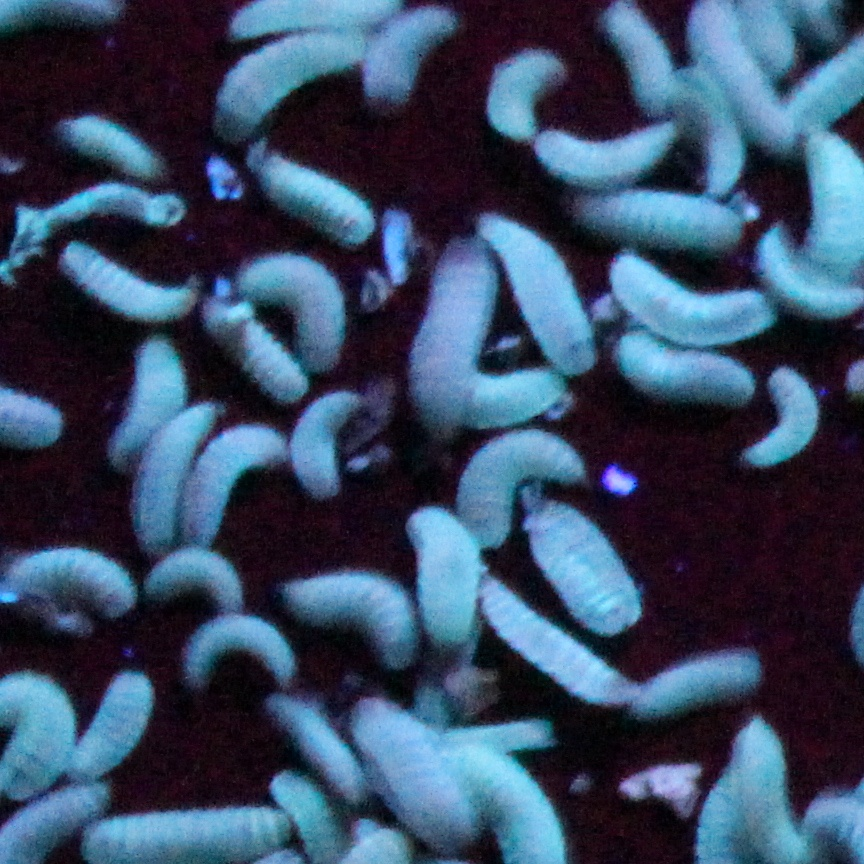larve: (470, 580, 641, 706), (406, 226, 503, 438), (484, 213, 597, 390), (602, 246, 775, 338), (526, 497, 643, 628), (216, 29, 368, 126), (460, 433, 585, 550), (235, 245, 348, 374), (287, 570, 421, 675), (58, 232, 203, 329), (132, 397, 219, 542), (190, 416, 287, 545), (616, 329, 758, 413), (270, 692, 375, 804), (60, 670, 160, 787), (248, 155, 371, 245), (409, 509, 485, 653), (106, 335, 184, 461), (638, 648, 770, 721), (364, 9, 461, 106), (746, 367, 824, 477), (599, 4, 675, 116), (533, 126, 682, 182), (58, 109, 164, 184), (185, 621, 297, 687), (489, 46, 565, 138), (294, 392, 358, 494), (687, 82, 743, 194)
